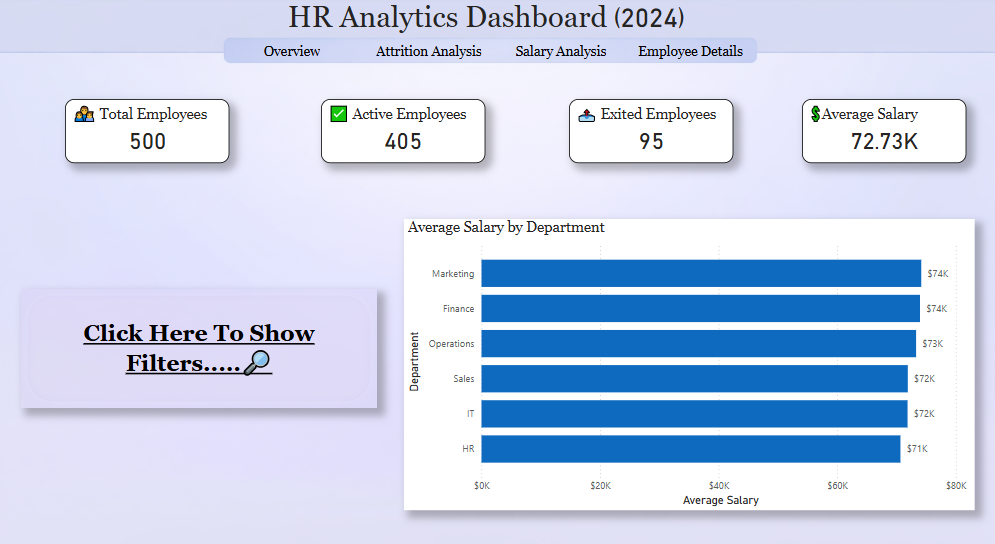

The page's visual inventory and layout, read from the dashboard file:
{"tool":"powerbi","page":{"name":"Salary Analysis","canvas":[1280,720],"ordinal":2},"visuals":[{"type":"card","title":"👨👦👦 Total Employees","fields":{"Values":["Employees.Total Employees"]},"box":[86.7,131.3,210.4,81.6],"z":0},{"type":"card","title":"✅ Active Employees","fields":{"Values":["Employees.Active Employees"]},"box":[414.3,131.3,210.4,81.6],"z":1000},{"type":"textbox","box":[0,0,1249.4,53.5],"z":2000},{"type":"shape","box":[464.1,53.5,175.9,34.4],"z":3000},{"type":"shape","box":[288.1,53.5,175.9,34.4],"z":4000},{"type":"shape","box":[800.6,53.5,169.6,34.4],"z":5000},{"type":"shape","box":[640,53.5,160.6,34.4],"z":6000},{"type":"barChart","fields":{"Y":["Employees.Average Salary"],"Category":["Employees.Department"]},"box":[520.2,284.3,729.2,372.3],"z":7000},{"type":"card","title":"💲Average Salary","fields":{"Values":["Employees.Average Salary"]},"box":[1028.8,131.3,210.4,81.6],"z":8000},{"type":"card","title":"📤 Exited Employees","fields":{"Values":["Employees.Exited Employees"]},"box":[730.5,131.3,210.4,81.6],"z":9000},{"type":"shape","box":[30.7,374.3,454.8,152],"z":10000}]}

Visuals, with their boxes in screenshot pixels (x1, y1, x2, y2), scaled from the page's 1280x720 canvas onto the 995x544 screenshot:
"👨👦👦 Total Employees" card: (left=67, top=99, right=231, bottom=161)
"✅ Active Employees" card: (left=322, top=99, right=486, bottom=161)
textbox: (left=0, top=0, right=971, bottom=40)
shape: (left=361, top=40, right=498, bottom=66)
shape: (left=224, top=40, right=361, bottom=66)
shape: (left=622, top=40, right=754, bottom=66)
shape: (left=498, top=40, right=622, bottom=66)
barChart - Employees.Average Salary x Employees.Department: (left=404, top=215, right=971, bottom=496)
"💲Average Salary" card: (left=800, top=99, right=963, bottom=161)
"📤 Exited Employees" card: (left=568, top=99, right=731, bottom=161)
shape: (left=24, top=283, right=377, bottom=398)
